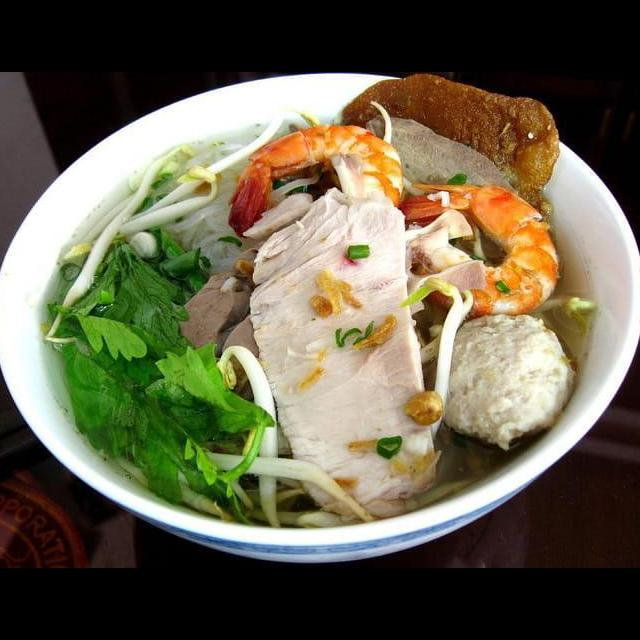hu tieu: (139, 141, 275, 281)
thit heo: (236, 183, 445, 525)
tom: (387, 176, 566, 321), (221, 119, 408, 244)
